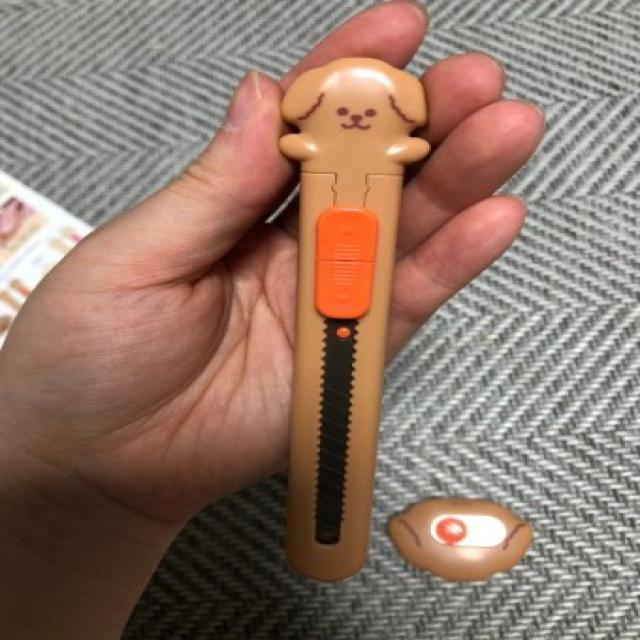cutter: (252, 35, 468, 601)
